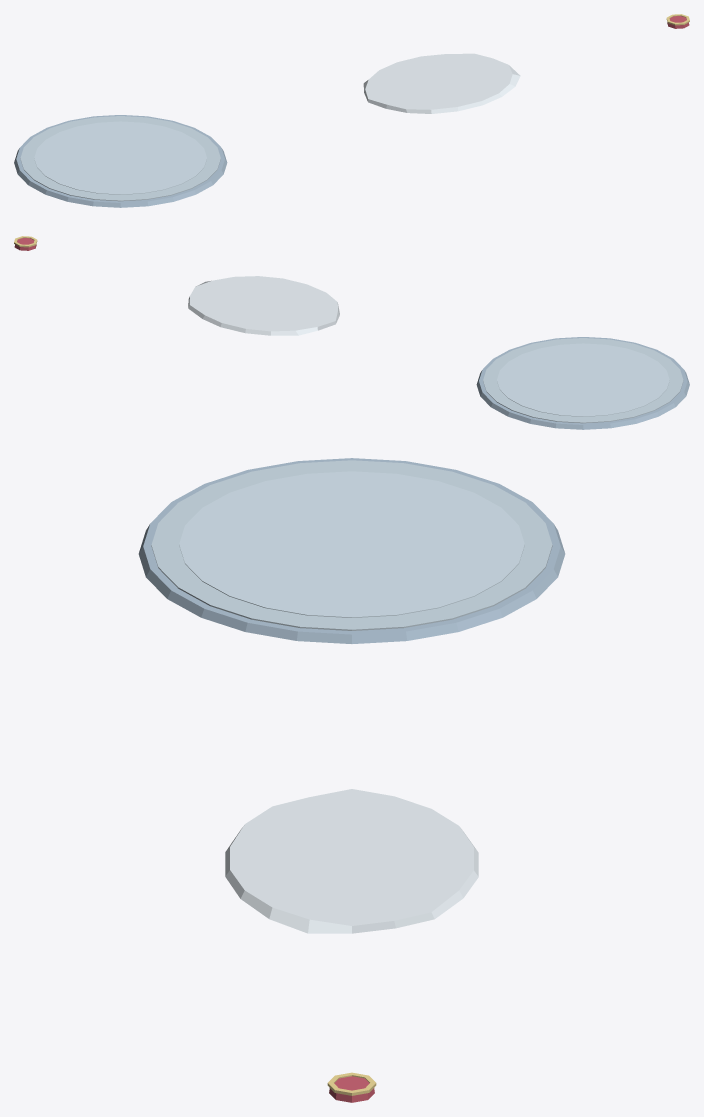
Rendered from YardBits.glb.
The picture shows the model from 3 angles, top to bottom: view 1: azimuth 30°, elevation 25°; view 2: azimuth 150°, elevation 25°; view 3: azimuth 270°, elevation 25°; orthographic projection. The views are drawn at different scales.
Parts seen in each view (by area): view 1: Bits_TitanBase, Bits_PhotoSnow, Bits_TitanRing, Bits_TitanEdge; view 2: Bits_TitanBase, Bits_PhotoSnow, Bits_TitanRing, Bits_TitanEdge; view 3: Bits_TitanBase, Bits_PhotoSnow, Bits_TitanRing, Bits_TitanEdge.
Boxes of the visible parts, x1=… form: Bits_TitanBase: x1=34, y1=121, x2=206, y2=194; Bits_PhotoSnow: x1=363, y1=53, x2=520, y2=113; Bits_TitanRing: x1=20, y1=116, x2=220, y2=201; Bits_TitanEdge: x1=14, y1=115, x2=227, y2=207; Bits_TitanBase: x1=497, y1=343, x2=669, y2=416; Bits_PhotoSnow: x1=188, y1=276, x2=339, y2=335; Bits_TitanRing: x1=483, y1=338, x2=683, y2=423; Bits_TitanEdge: x1=476, y1=337, x2=689, y2=429; Bits_TitanBase: x1=179, y1=471, x2=524, y2=617; Bits_PhotoSnow: x1=225, y1=789, x2=478, y2=933; Bits_TitanRing: x1=151, y1=460, x2=552, y2=630; Bits_TitanEdge: x1=138, y1=458, x2=565, y2=643.
Bounding box in the file's own units: 82.92 × 0.92 × 23.2.
